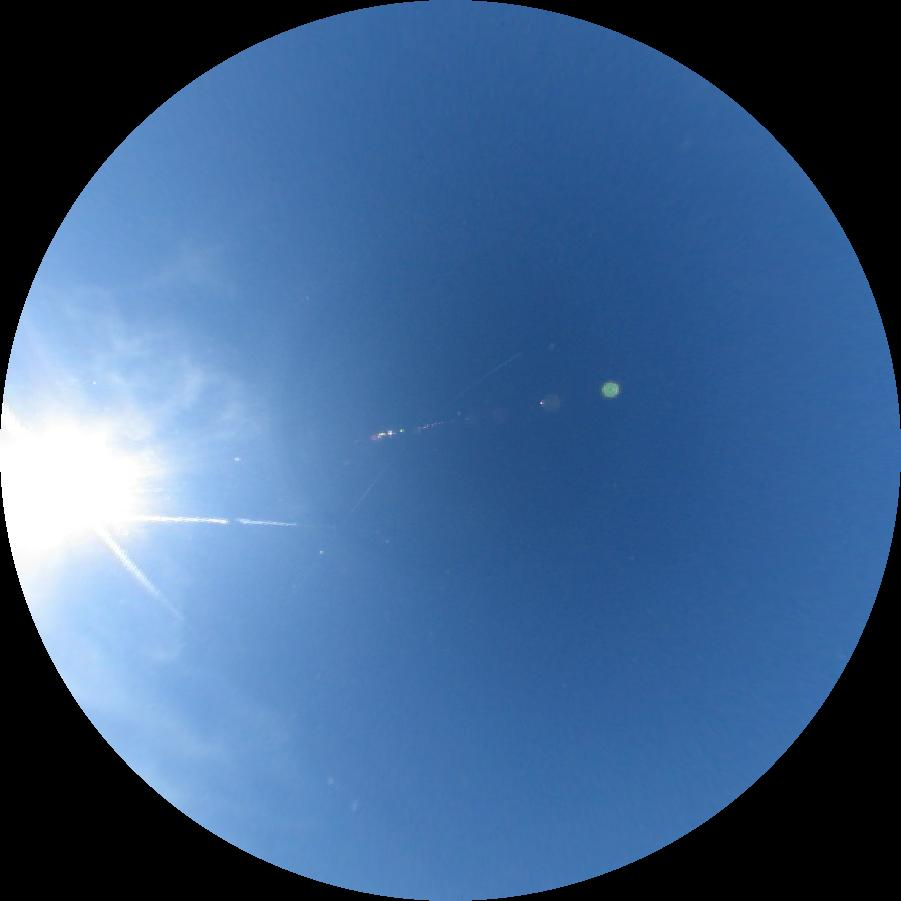contrail old: (3, 407, 183, 619)
contrail young: (349, 352, 521, 515)
parasite: (102, 511, 297, 528)
sun: (0, 424, 114, 546)
